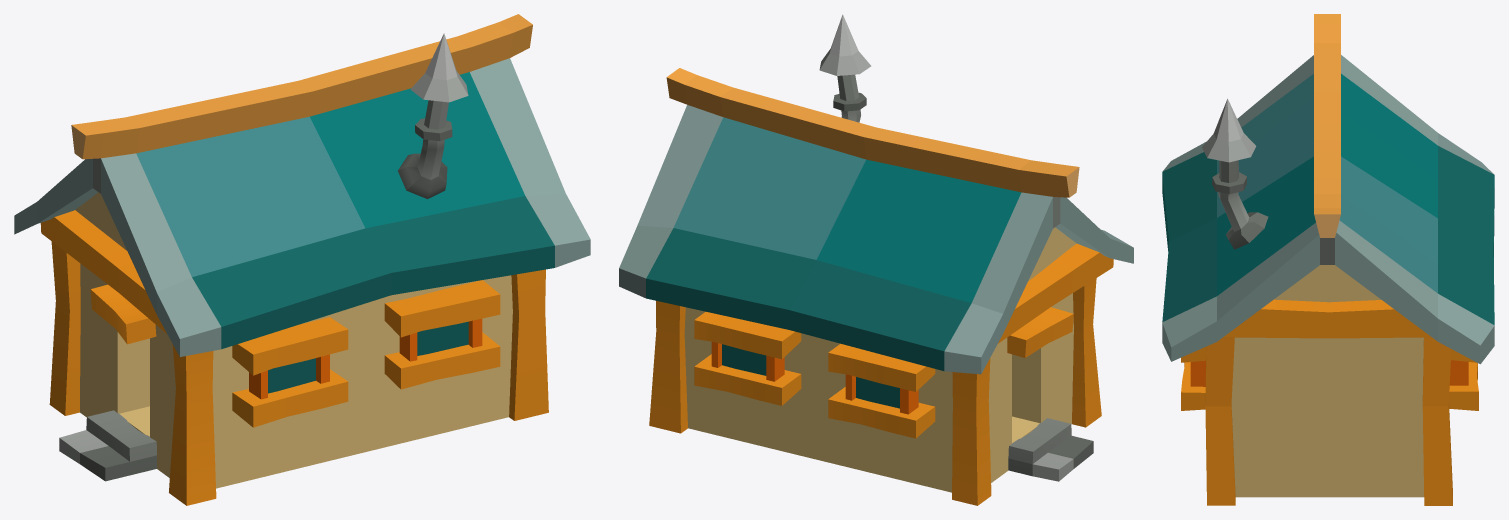
File: logcabin_blue.fbx
The picture shows the model from 3 angles, left to right: view 1: azimuth 30°, elevation 25°; view 2: azimuth 150°, elevation 25°; view 3: azimuth 270°, elevation 25°; orthographic projection. The views are drawn at different scales.
Parts seen in each view (by area): view 1: log_cabin_blue; view 2: log_cabin_blue; view 3: log_cabin_blue.
Boxes of the visible parts, x1=… form: log_cabin_blue: x1=14, y1=14, x2=590, y2=505; log_cabin_blue: x1=619, y1=14, x2=1133, y2=505; log_cabin_blue: x1=1162, y1=14, x2=1494, y2=505.
Size of the model in its own units: 27.97 by 23.48 by 19.38.
